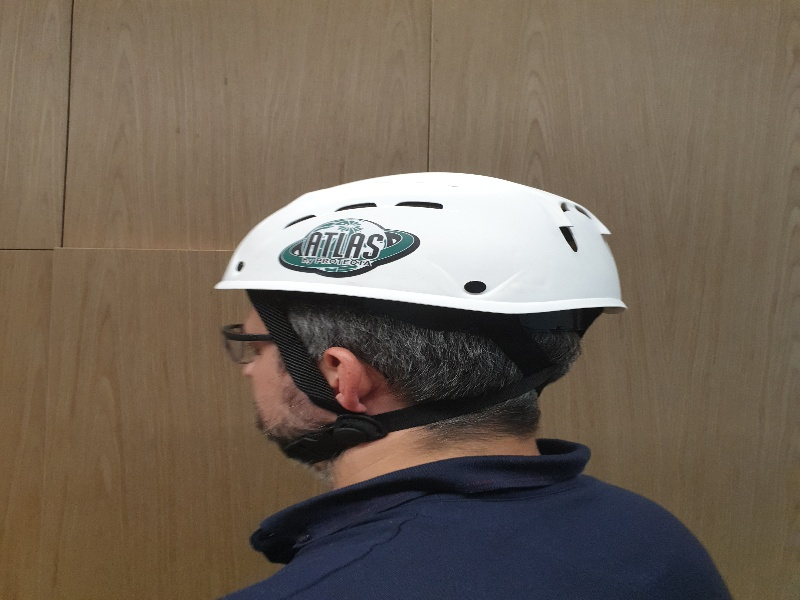Baret: (237, 180, 634, 316)
Gozluk: (216, 320, 276, 366)
